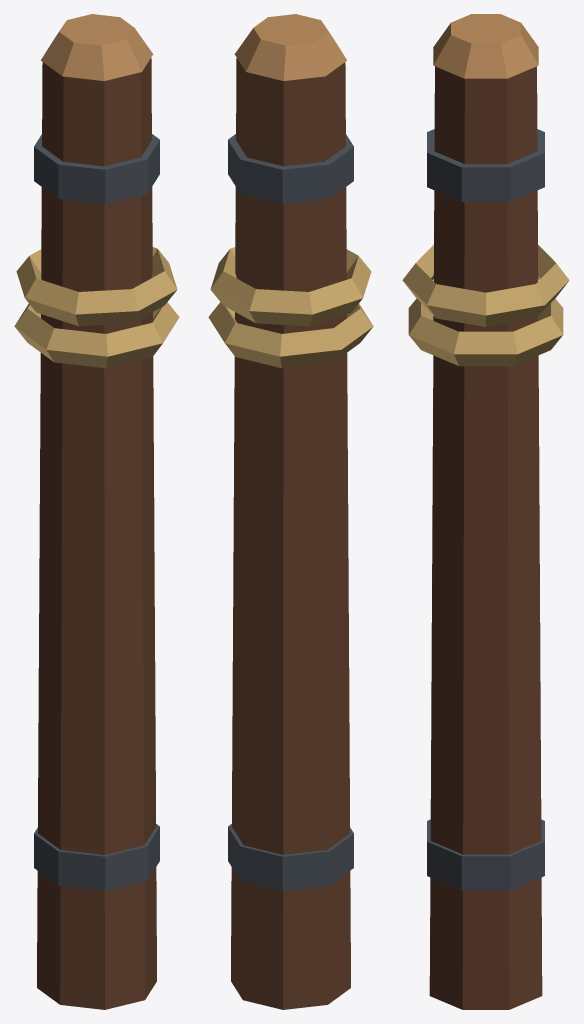
File: pier_post.glb
The picture shows the model from 3 angles, left to right: view 1: azimuth 30°, elevation 25°; view 2: azimuth 150°, elevation 25°; view 3: azimuth 270°, elevation 25°; orthographic projection.
Parts seen in each view (by area): view 1: Body; view 2: Body; view 3: Body.
Part boxes in pixels (x1,y1,x2,y2): Body: (14,14,179,1009); Body: (208,14,373,1009); Body: (402,14,569,1009).
Size of the model in its own units: 0.44 by 2.78 by 0.44.
